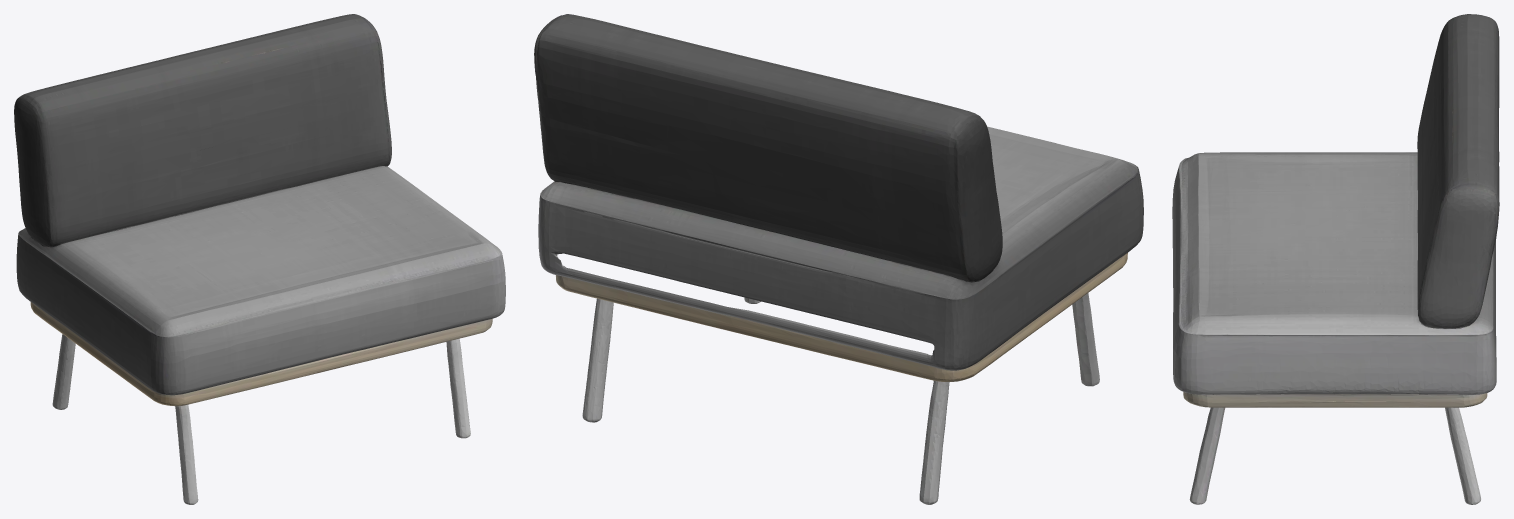
The model's file is 61ce3dff-d785-484c-9f52-3983c0cb5d42.glb.
The picture shows the model from 3 angles, left to right: view 1: azimuth 30°, elevation 25°; view 2: azimuth 150°, elevation 25°; view 3: azimuth 270°, elevation 25°; orthographic projection. The views are drawn at different scales.
Parts seen in each view (by area): view 1: world; view 2: world; view 3: world.
Boxes of the visible parts, <box> form: world: <box>14,14,505,504</box>; world: <box>534,14,1143,504</box>; world: <box>1172,14,1499,504</box>.
Size of the model in its own units: 0.999 by 0.87 by 0.7648.
Materials: 1 (1 with a texture image).
